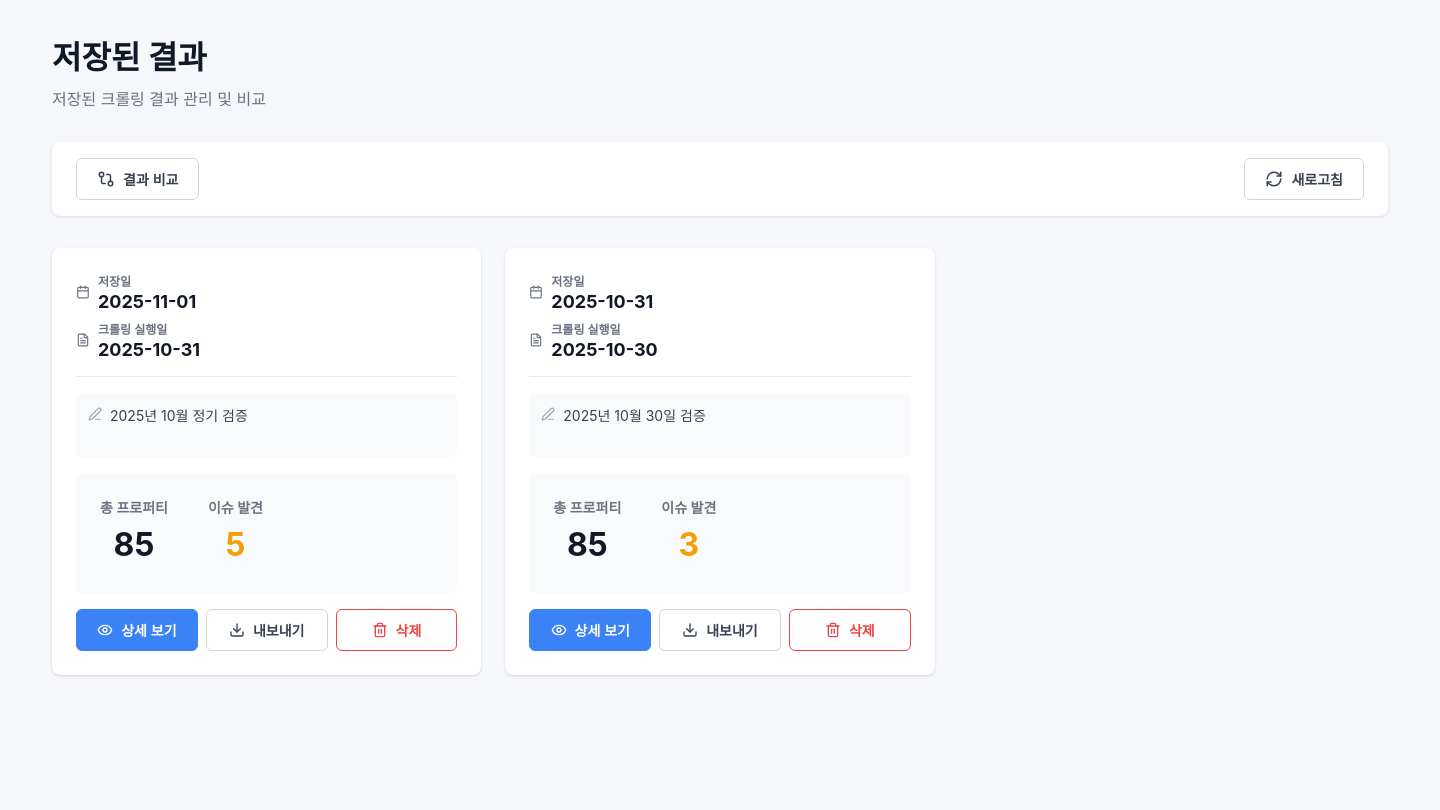
Test: SavedResults Page › Compare Mode › should close compare mode when cancel button clicked
Check: the text "2025년 10월 정기 검증" is shown, box [110, 407, 248, 424]
What coordinates should you click on to do the following:
click the button "결과 비교"
I would click on:
 (138, 179)
Its box is [76, 158, 199, 200].
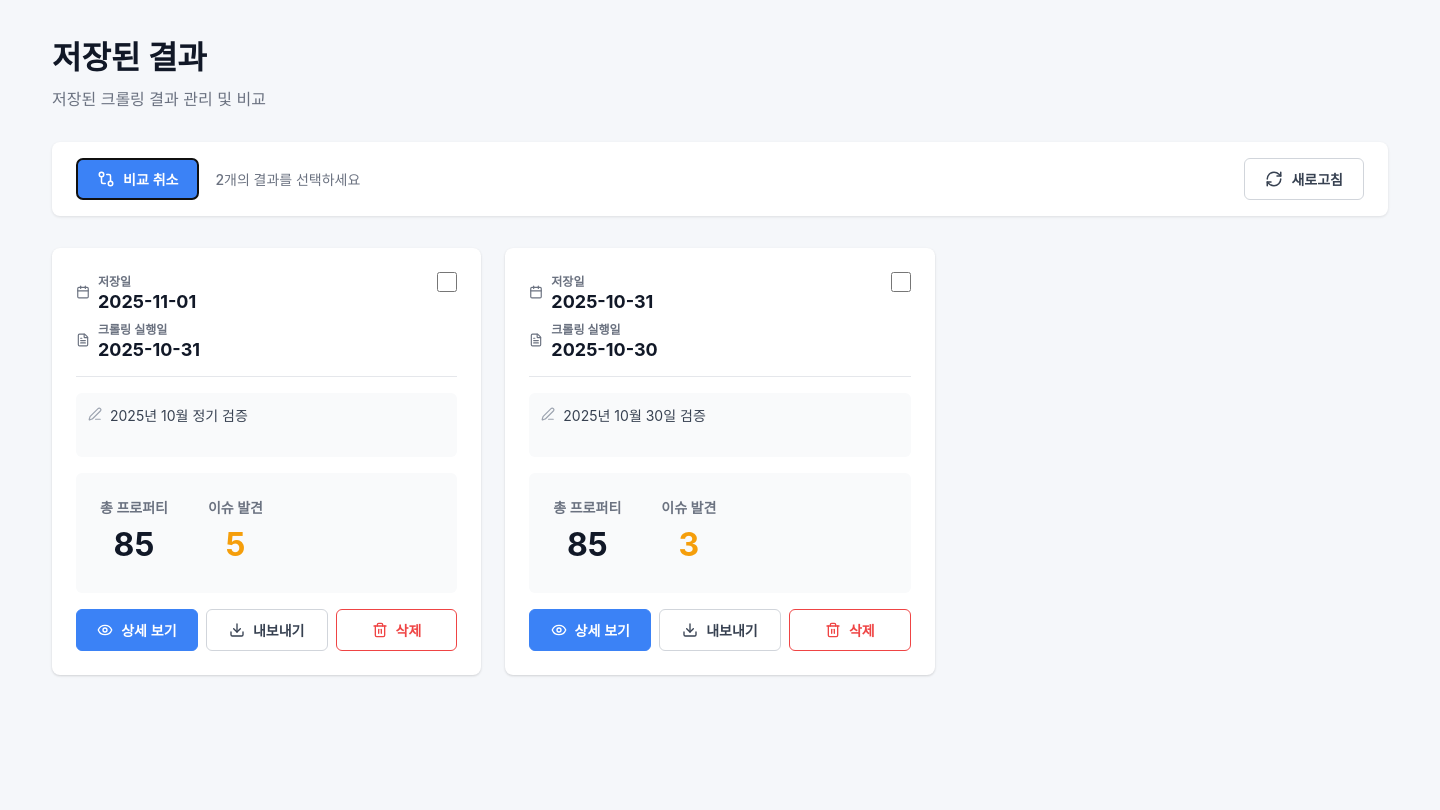
Check: the text "2개의 결과를 선택하세요" is shown, box [215, 169, 360, 189]
What coordinates should you click on to do the following:
click the button "비교 취소"
I would click on:
 (138, 179)
Its box is [76, 158, 199, 200].
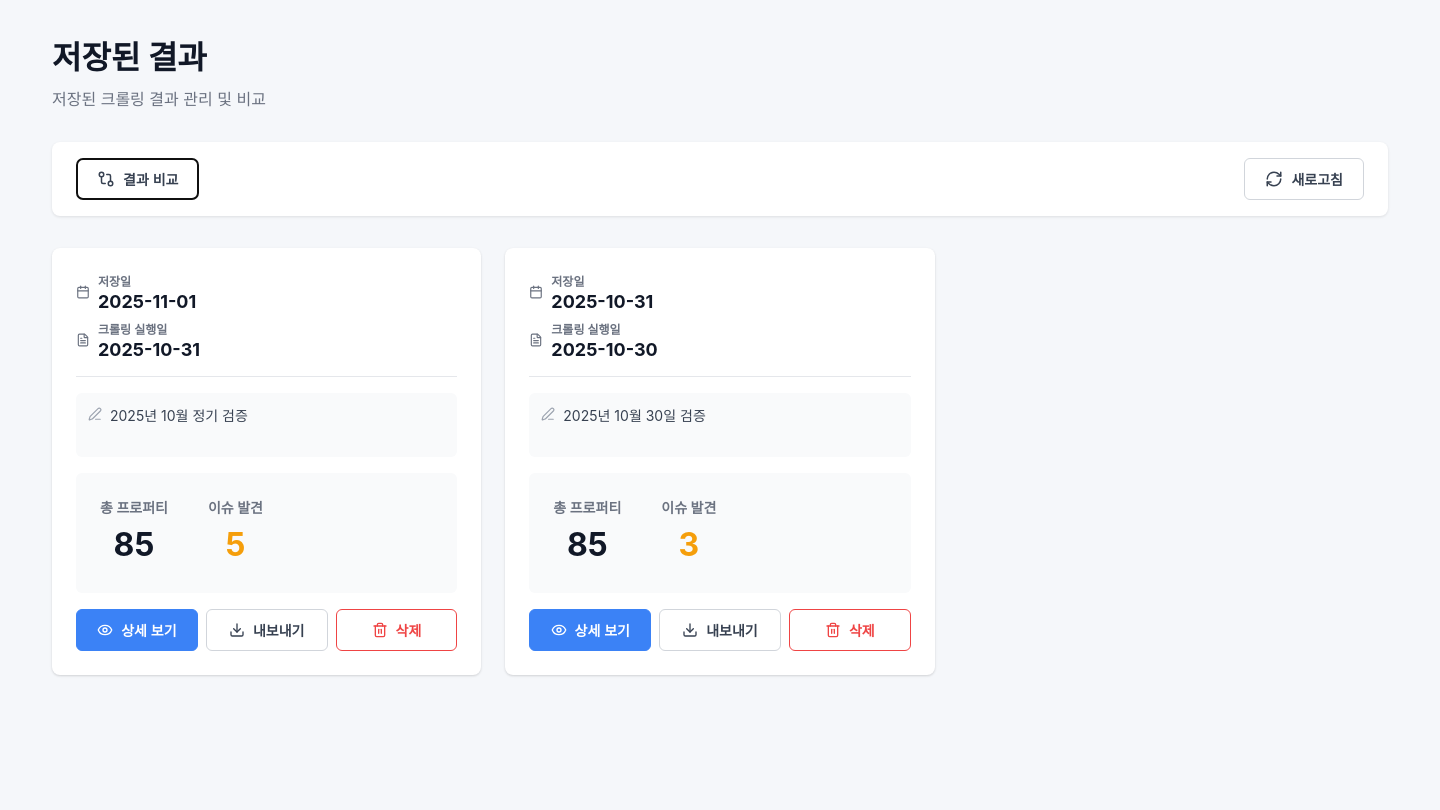
Check: the text "2개의 결과를 선택하세요" is gone
